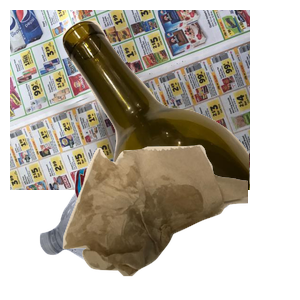glass: (60, 18, 300, 198)
paper: (10, 10, 250, 190)
plastic: (37, 144, 265, 300)
trash: (60, 142, 300, 300)
